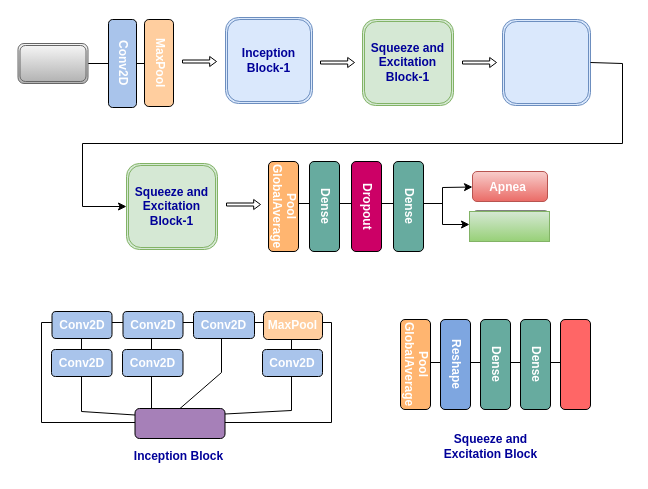
Some shapes in this 648 by 489 pixel diagram are drawn without their labels. Here are the shapes that lost their labels. From the top down, the centre of each, then its label:
point (52, 63): Input
point (546, 62): Inception Block-2
point (509, 226): Non-Apnea
point (575, 364): Multiply
point (179, 423): Concatenate
